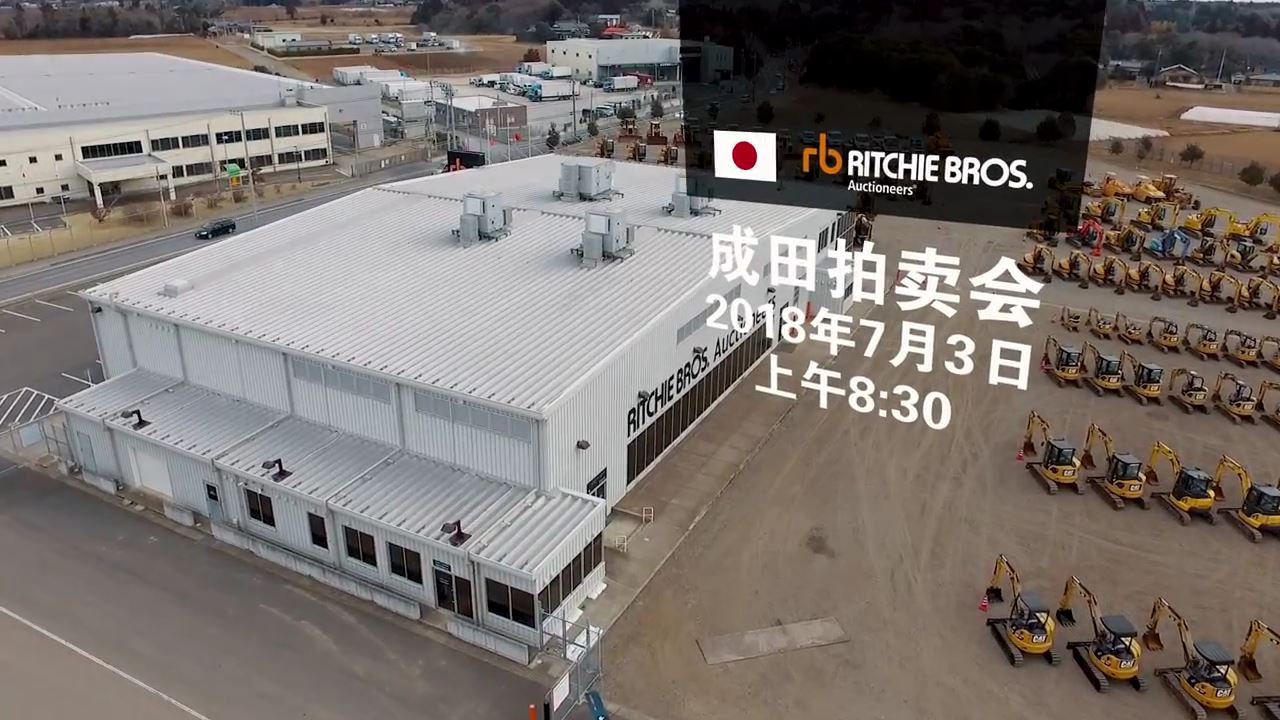con_eq: (1040, 572, 1143, 690), (1135, 599, 1220, 714), (966, 557, 1054, 665), (1135, 437, 1215, 529), (1071, 423, 1146, 514), (1014, 412, 1082, 493), (1035, 336, 1083, 398), (1118, 349, 1164, 408), (1157, 365, 1211, 414), (1075, 342, 1120, 398), (1011, 239, 1054, 286), (1177, 320, 1220, 365), (1161, 265, 1203, 310), (1140, 312, 1182, 356), (1129, 253, 1165, 302), (1089, 254, 1128, 297), (1054, 245, 1090, 288), (1150, 172, 1189, 207), (1132, 202, 1180, 229), (1149, 226, 1186, 261), (1065, 213, 1104, 246), (1102, 223, 1142, 255), (1109, 309, 1142, 347), (1045, 300, 1083, 331), (1090, 166, 1126, 198), (1084, 194, 1125, 222), (1124, 170, 1158, 203), (589, 135, 623, 167), (1084, 302, 1111, 340), (1179, 209, 1220, 232), (1188, 234, 1216, 266), (643, 119, 674, 147), (1200, 267, 1219, 306), (657, 146, 682, 170), (624, 137, 646, 164), (1208, 374, 1220, 414), (619, 114, 639, 134)
